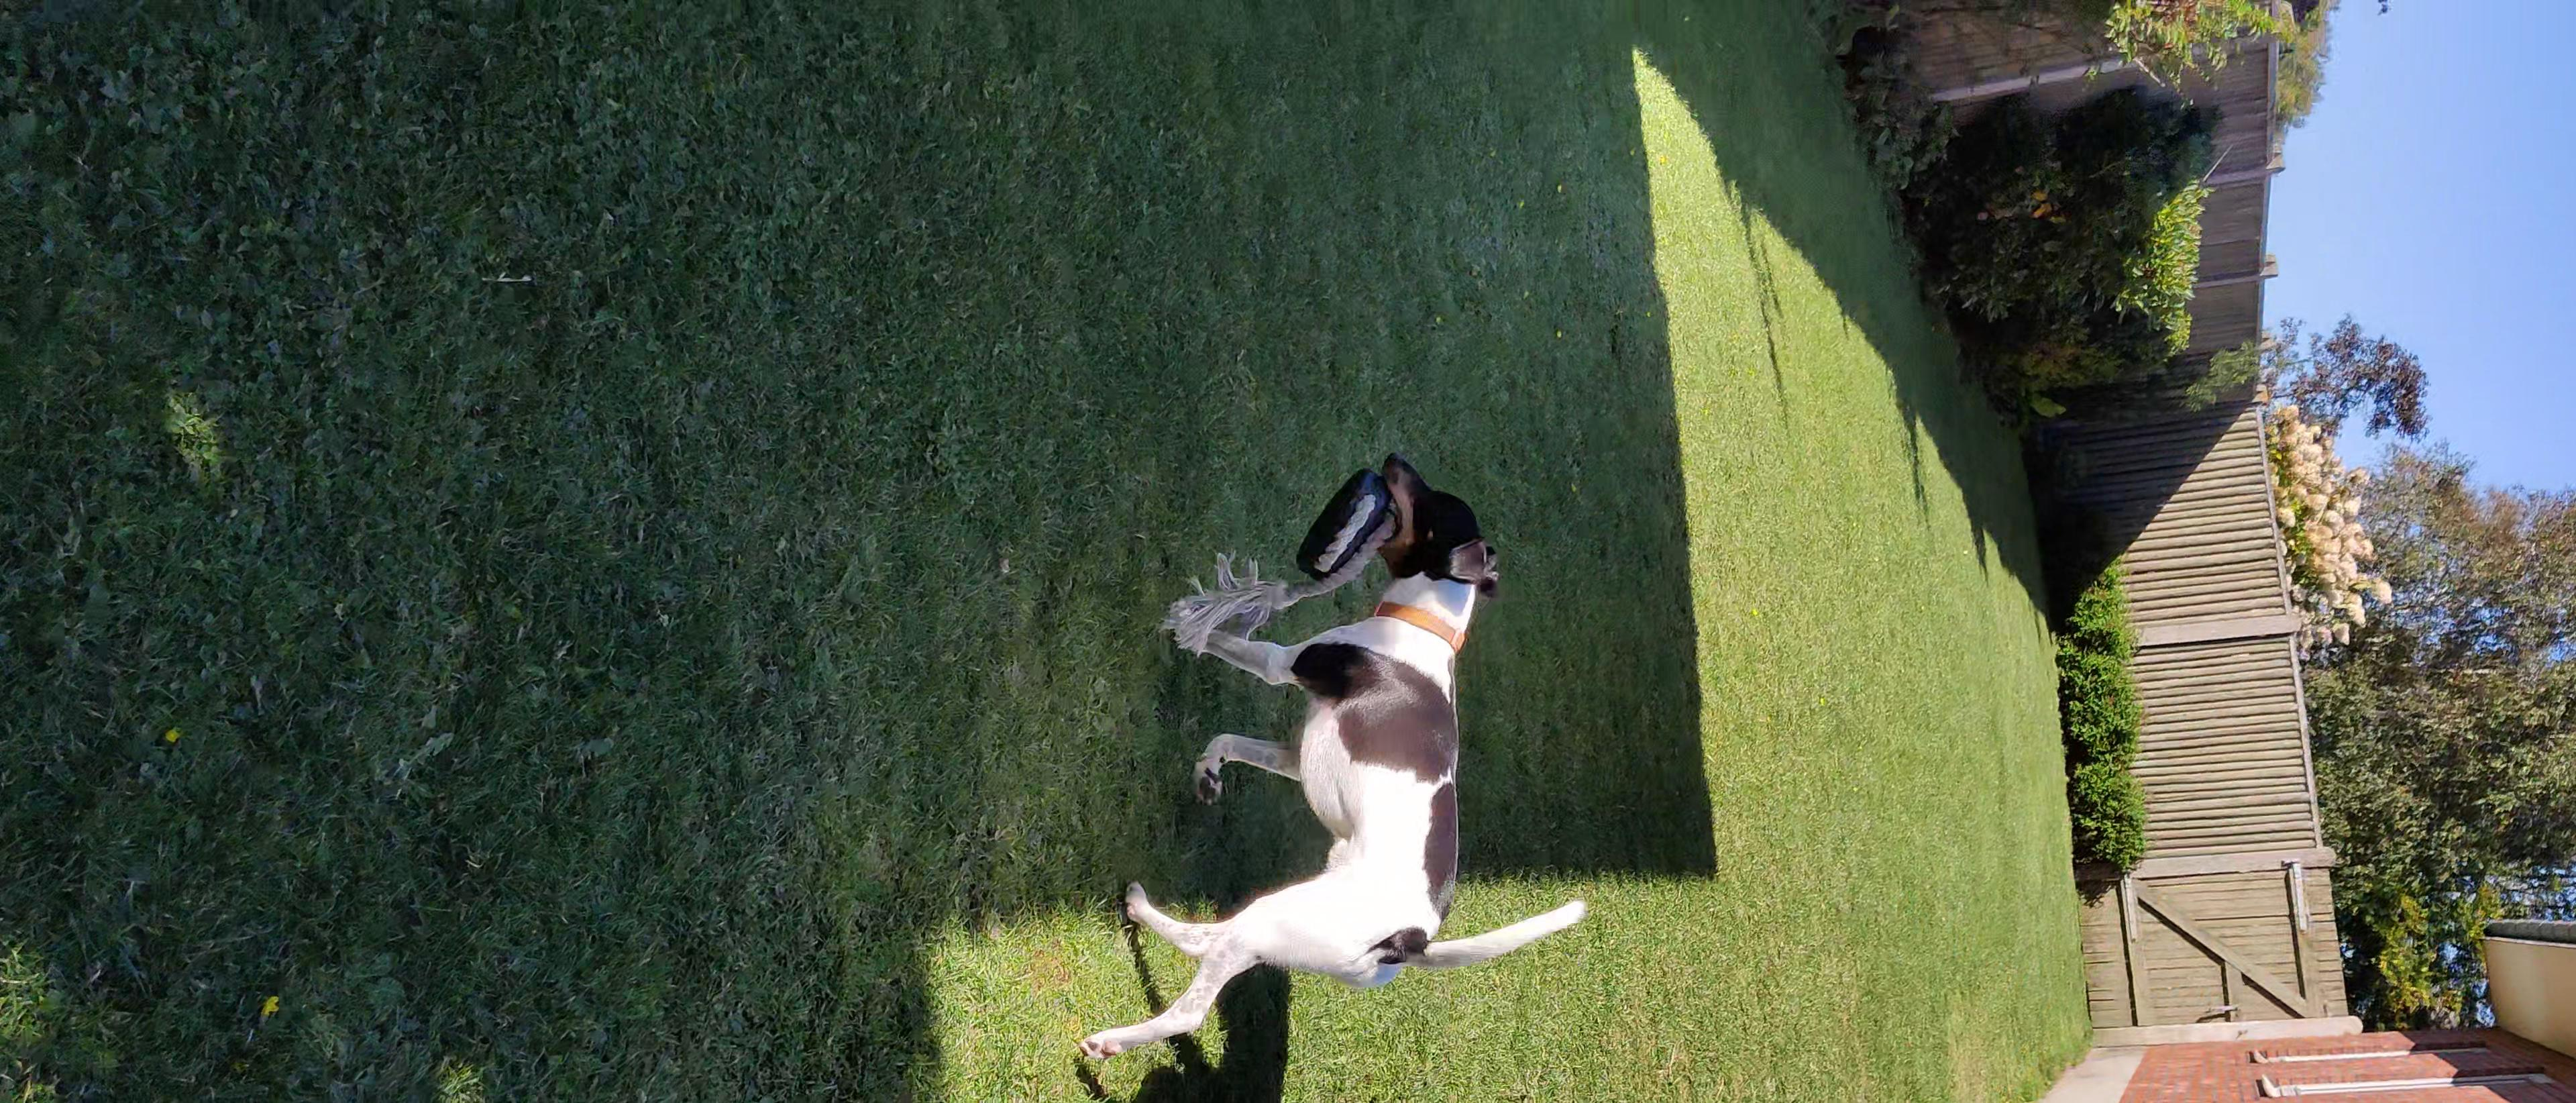Dog: (1068, 445, 1595, 1060)
